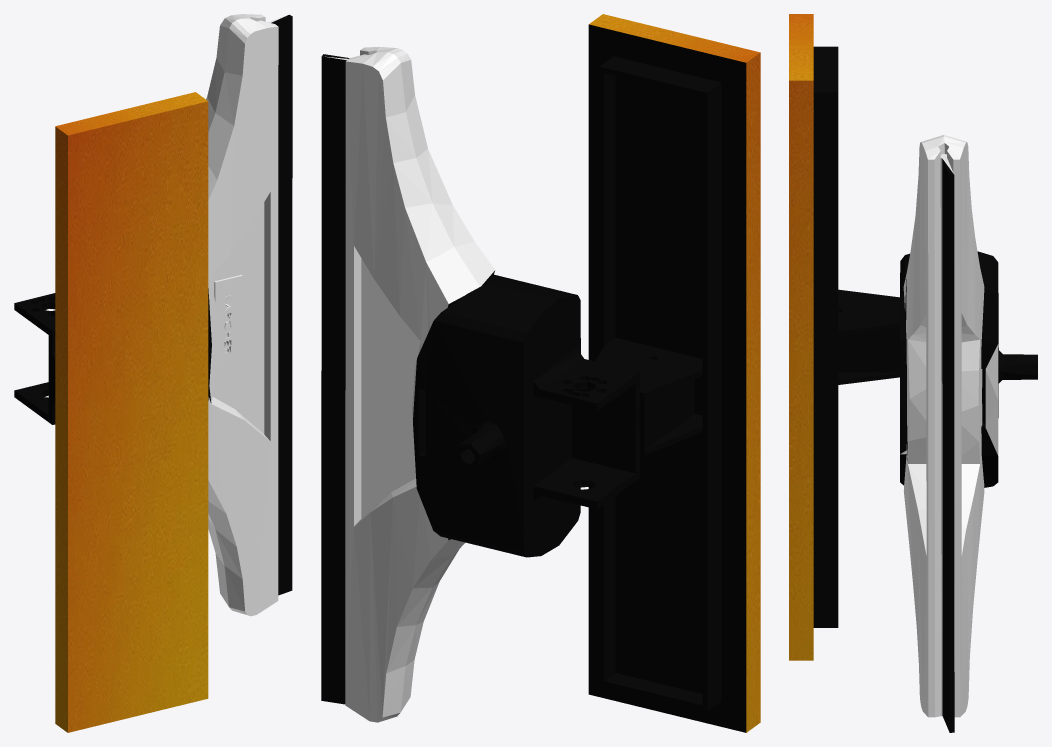
The model's file is servo7_link.dae.
3 views of the same model, side by side, from view 1: azimuth 30°, elevation 25°; view 2: azimuth 150°, elevation 25°; view 3: azimuth 270°, elevation 25° (orthographic). The views are drawn at different scales.
Visible parts, largest first — view 1: servo7_link; view 2: servo7_link; view 3: servo7_link.
Part boxes in pixels (x1,y1,x2,y2): servo7_link: (14, 14, 292, 732); servo7_link: (321, 14, 760, 732); servo7_link: (789, 14, 1037, 732).
Size of the model in its own units: 0.1399 by 0.101 by 0.26.
1 material, 1 textured.
